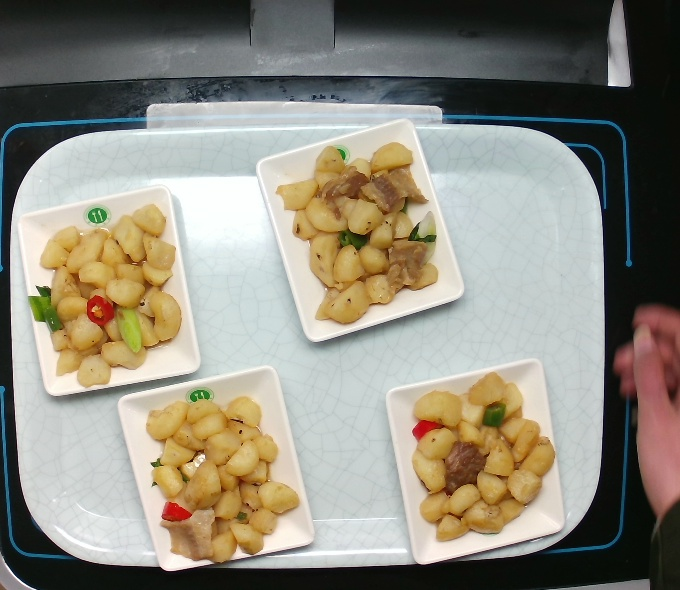wcq-MaTiGuoChaoRou: (272, 136, 446, 328), (23, 199, 187, 392), (140, 392, 305, 569), (404, 369, 563, 549)
